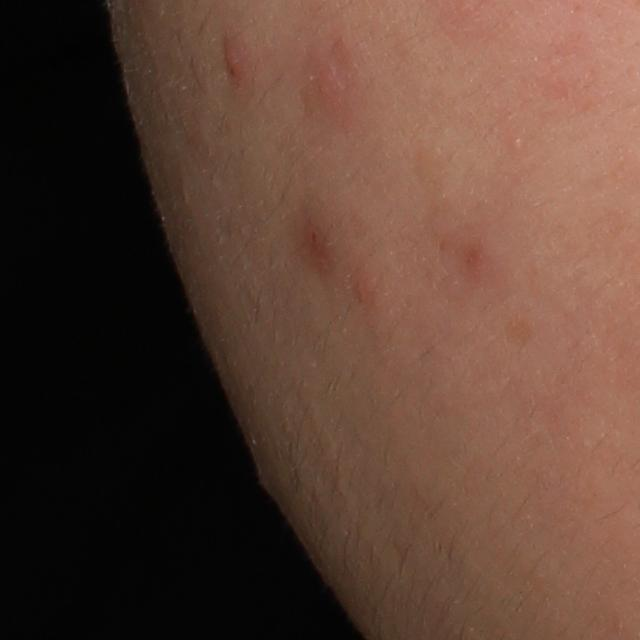comedo: (508, 136, 526, 153)
